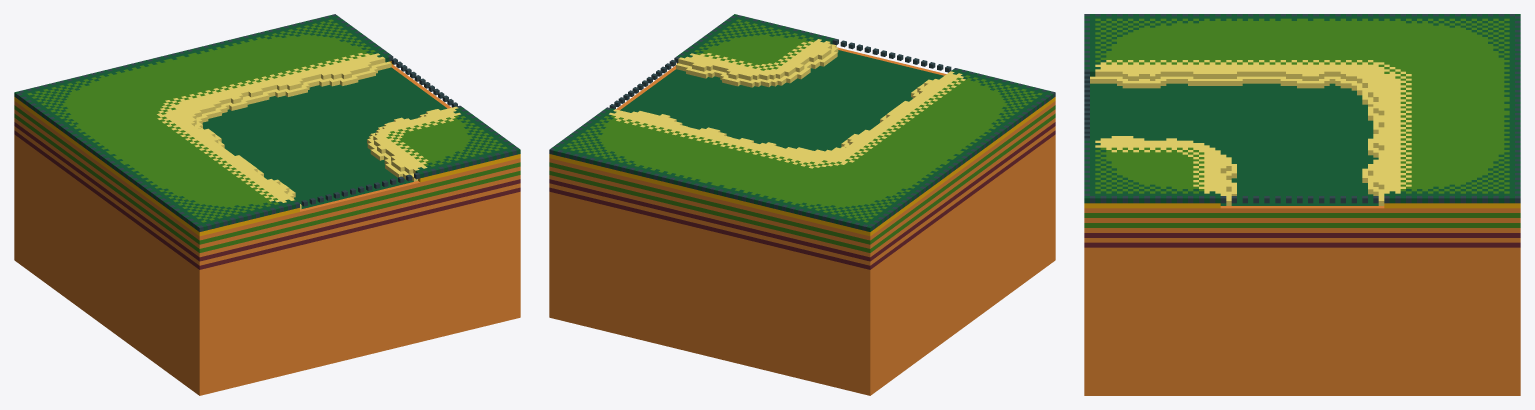
File: river_2_tile.obj
3 renders of one model, left to right at view 1: azimuth 30°, elevation 25°; view 2: azimuth 150°, elevation 25°; view 3: azimuth 270°, elevation 25°, orthographic. The views are drawn at different scales.
Bounding box in the file's own units: 8 × 4 × 8.
1 material, 1 textured.
